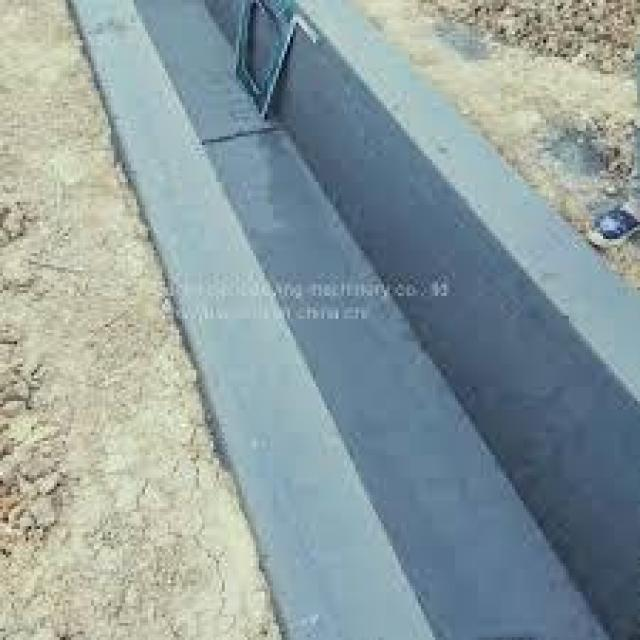curb: (204, 1, 640, 639)
